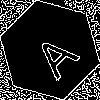A: (25, 25, 82, 81)
